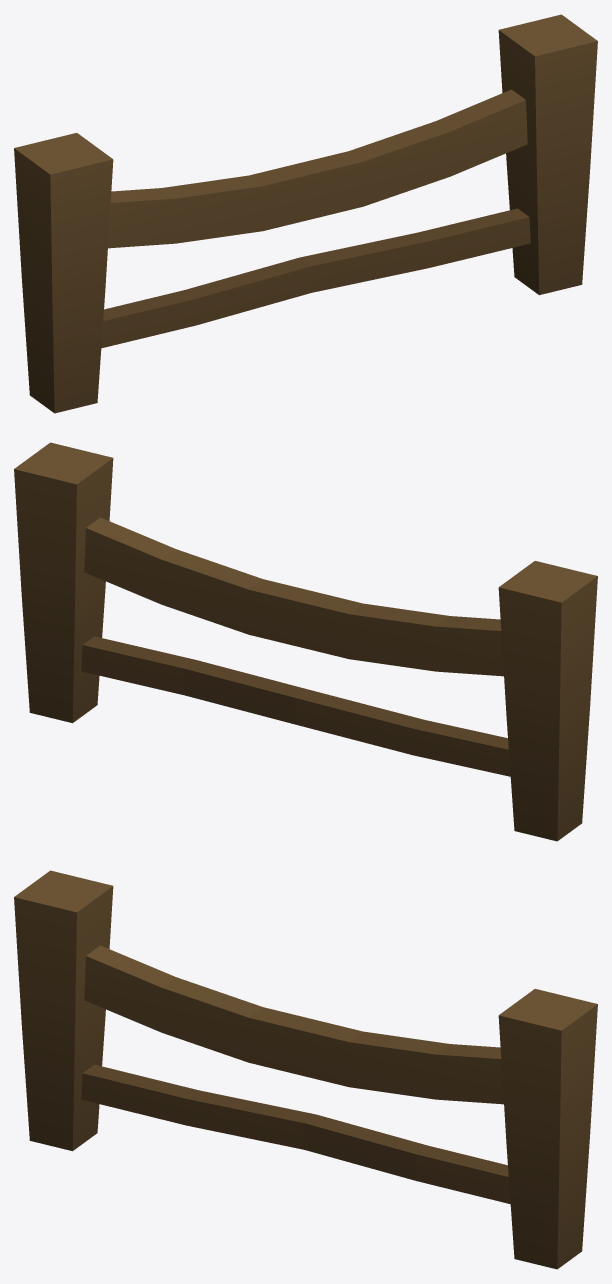
Rendered from Fence_01.fbx.
3 renders of one model, top to bottom at view 1: azimuth 30°, elevation 25°; view 2: azimuth 150°, elevation 25°; view 3: azimuth 330°, elevation 25°, orthographic.
Visible parts, largest first — view 1: Fence_01; view 2: Fence_01; view 3: Fence_01.
Part boxes in pixels (x1,y1,x2,y2): Fence_01: [14, 14, 597, 413]; Fence_01: [14, 442, 597, 841]; Fence_01: [14, 870, 597, 1269].
Bounding box in the file's own units: 2.38 × 1.02 × 0.2739.
